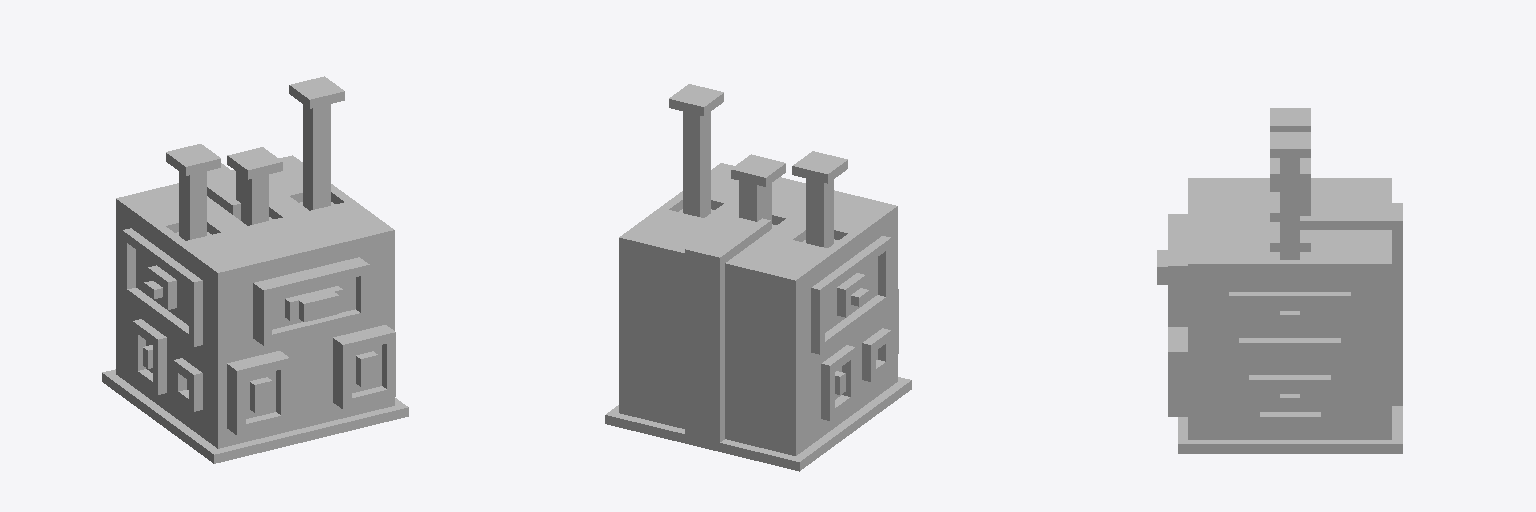
The model's file is probe droid head.obj.
3 views of the same model, side by side, from view 1: azimuth 30°, elevation 25°; view 2: azimuth 150°, elevation 25°; view 3: azimuth 270°, elevation 25° (orthographic).
Parts seen in each view (by area): view 1: object 1; view 2: object 1; view 3: object 1.
Boxes of the visible parts, x1=… form: object 1: x1=102, y1=76, x2=408, y2=463; object 1: x1=605, y1=84, x2=911, y2=471; object 1: x1=1157, y1=108, x2=1402, y2=453.
Bounding box in the file's own units: 2.3 × 3.2 × 2.4.